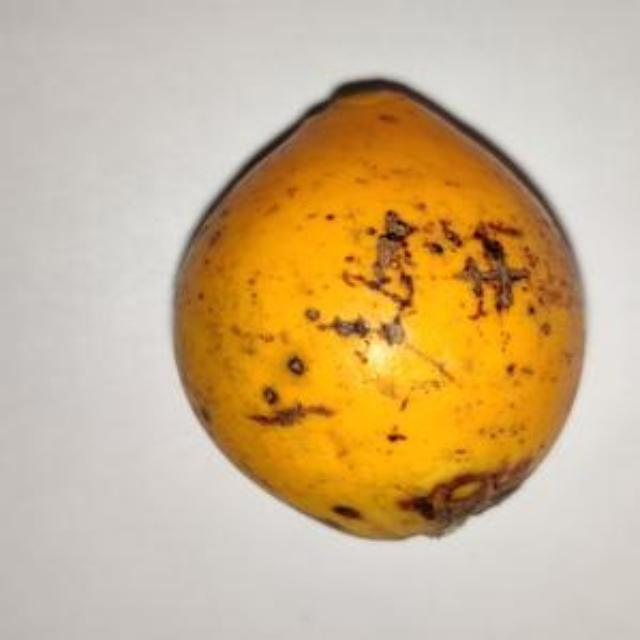good: (169, 79, 586, 544)
